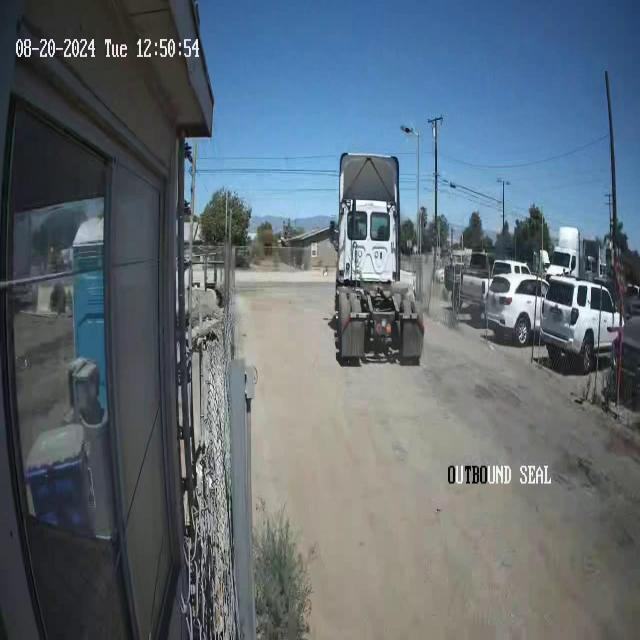BOBTAIL: (329, 151, 425, 366)
